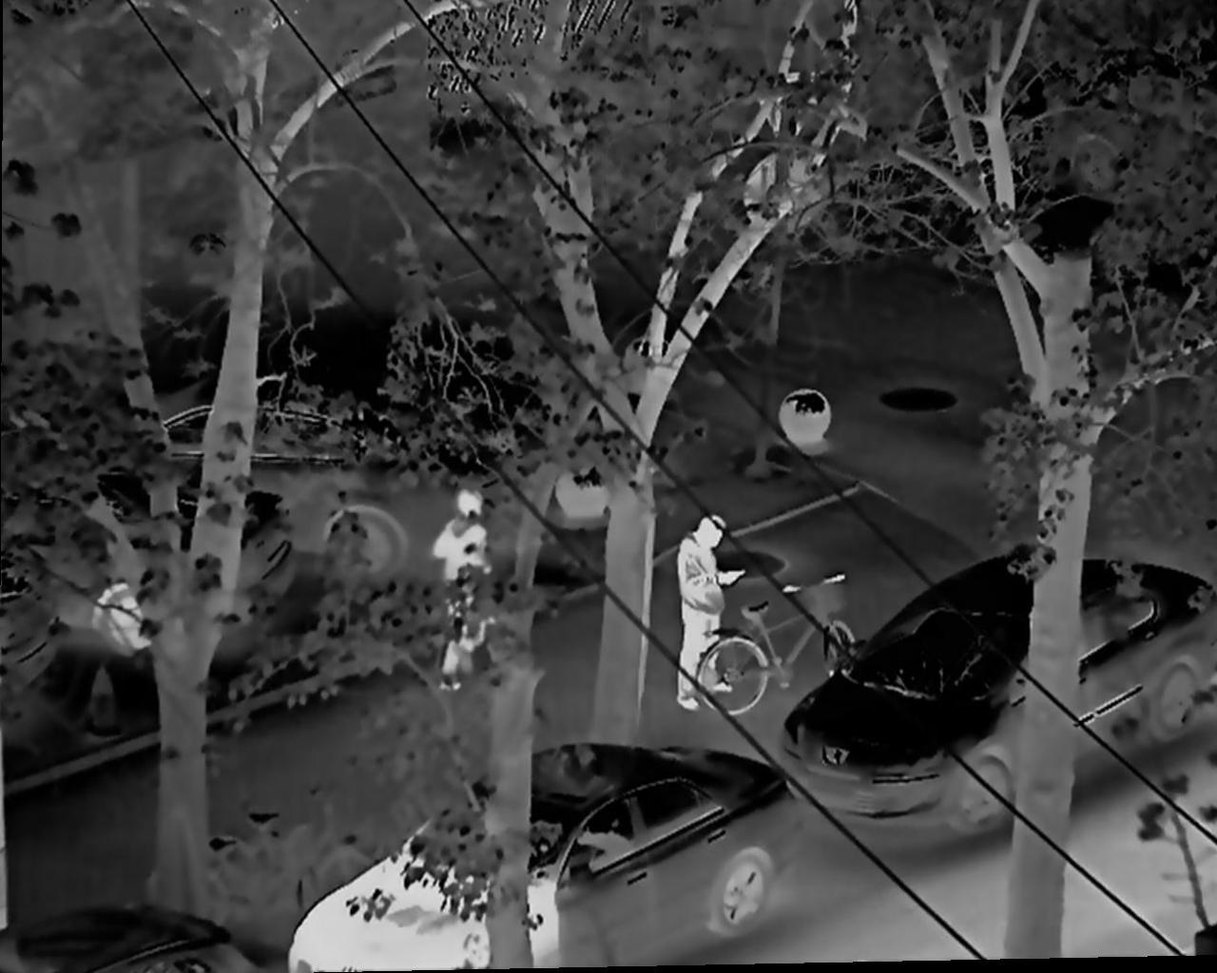person: (428, 486, 496, 695), (674, 515, 744, 711)
